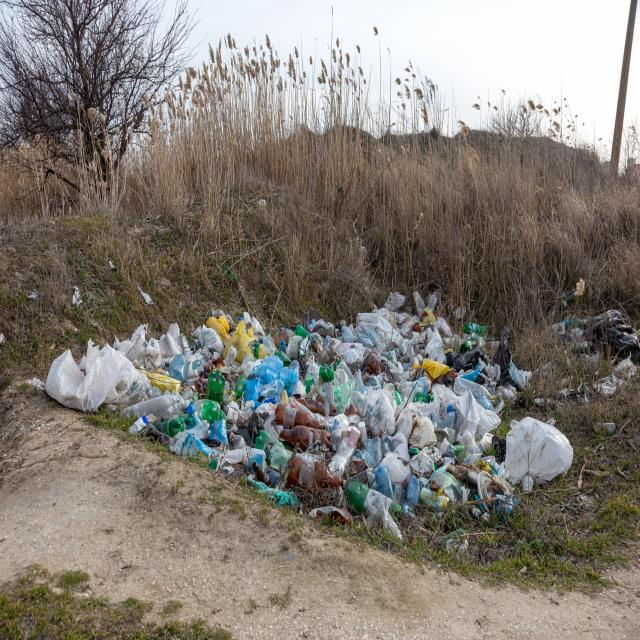dumping: (39, 284, 574, 536)
